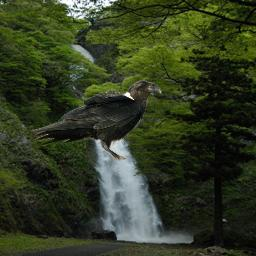Crow: (29, 79, 163, 162)
